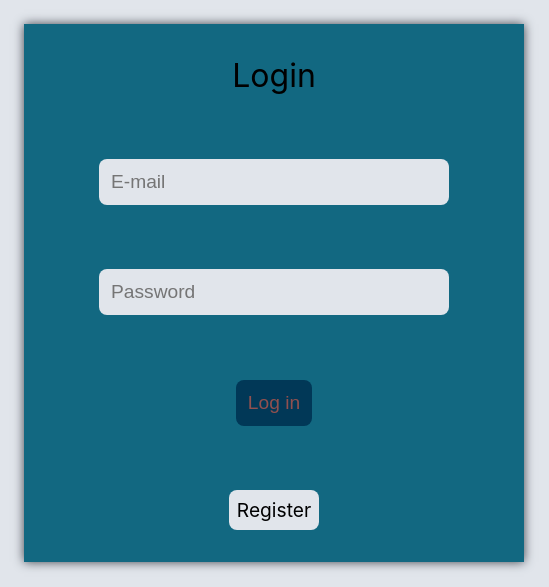
Test: Register Page › should redirect the page if the user was created
Click the link "Register" at (274,510), box [229, 490, 319, 530]
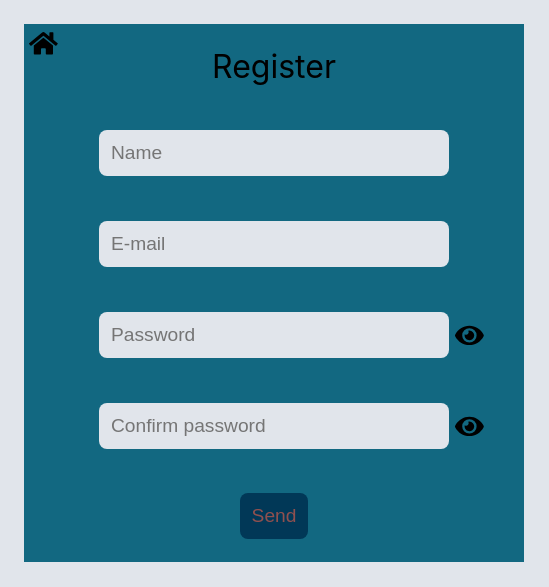
Type "Harry Potter" into the field named "Type your name" at (274,153), box [99, 130, 449, 176]
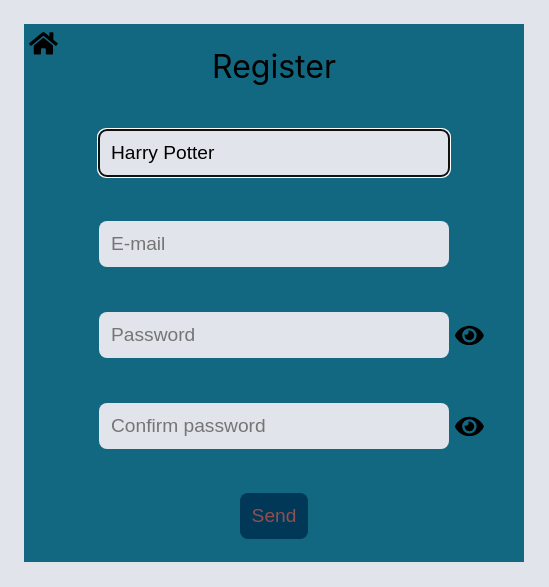
Type "harry.potter@hogwarts.com" into the field named "Type your email" at (274,244), box [99, 221, 449, 267]
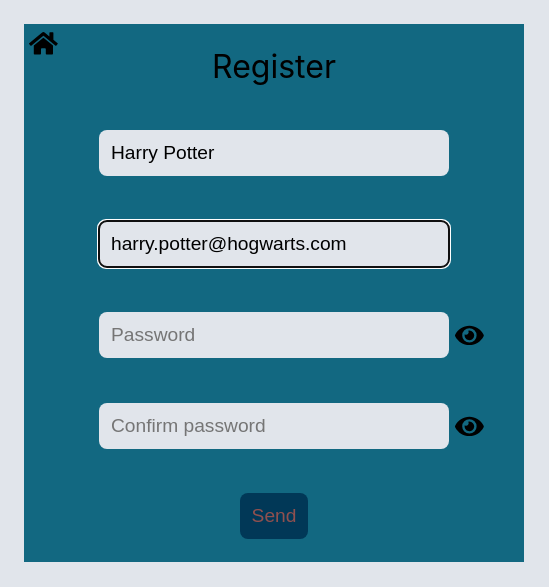
Type "Hedwig01!" into the password field named "Type your password" at (274,335), box [99, 312, 449, 358]
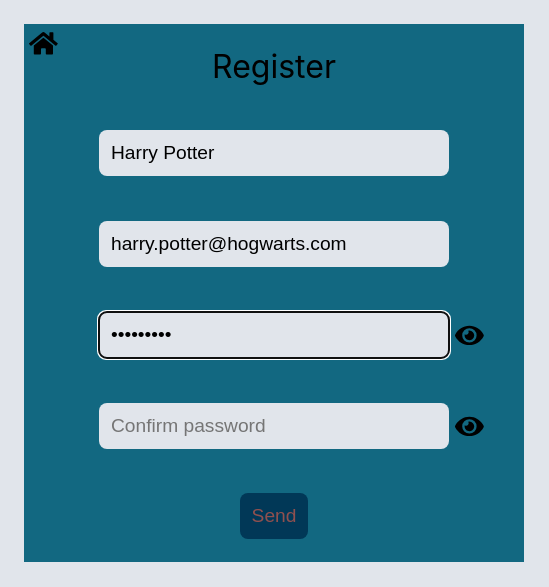
Type "Hedwig01!" into the password field named "Type your password again" at (274,426), box [99, 403, 449, 449]
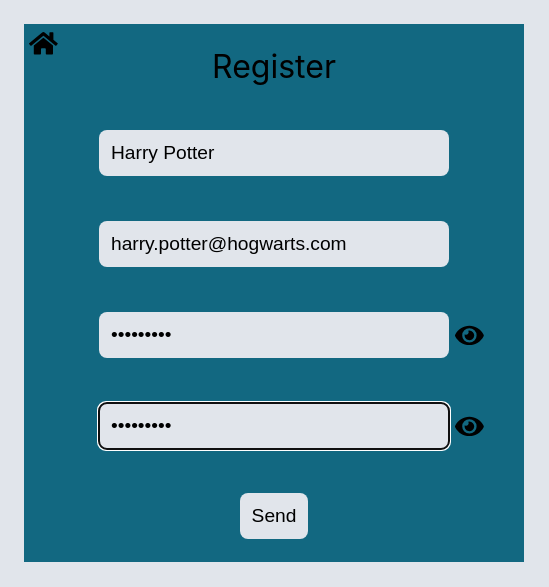
Click the button at (274,516), box [240, 493, 308, 539]
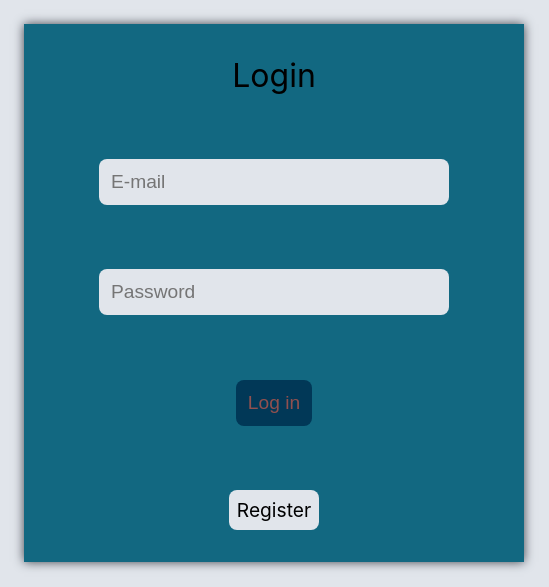
expect the text "Login" is shown: met, box [232, 56, 316, 95]
